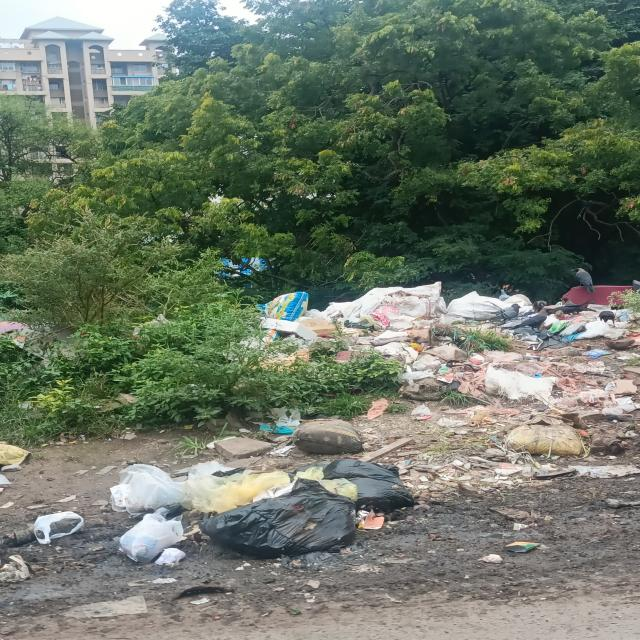garbage: (114, 427, 416, 570), (258, 284, 640, 390), (488, 397, 640, 480)
